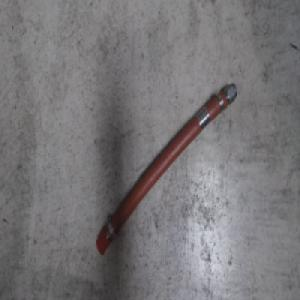Hose: (94, 79, 237, 259)
